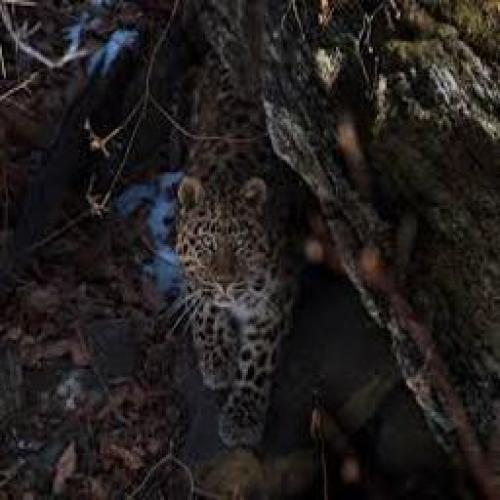amur_leopard-endangered: (172, 44, 292, 447)
